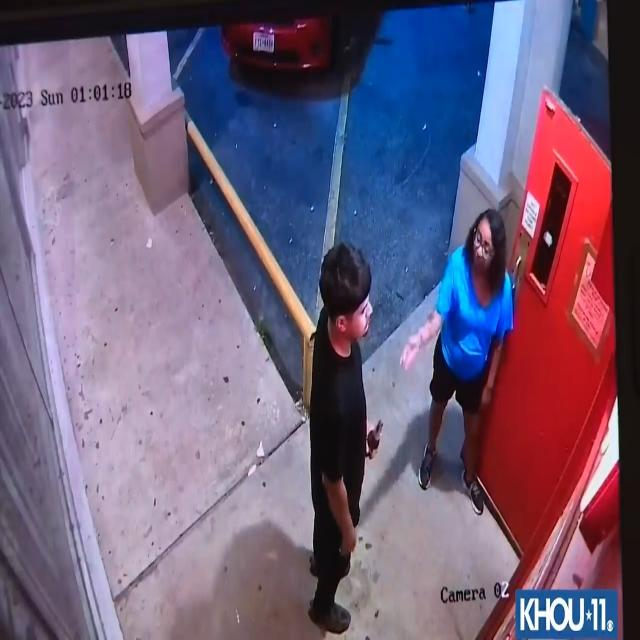Person: (398, 182, 513, 537), (307, 241, 381, 640)
